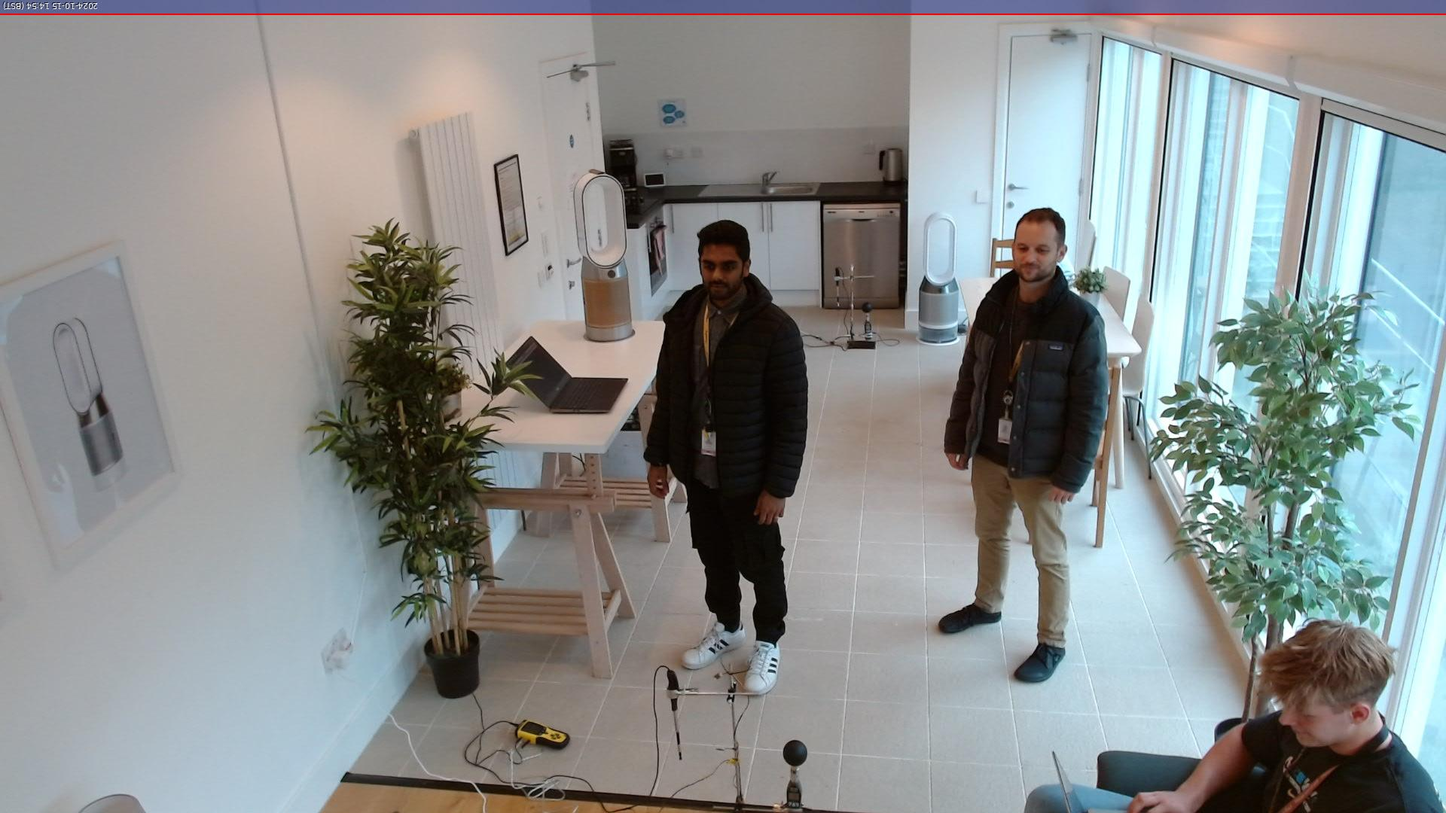coat: (941, 264, 1107, 496), (638, 277, 810, 499)
long sleeve shirt: (688, 283, 752, 490)
short sleeve shirt: (1241, 707, 1446, 813)
trousers: (969, 447, 1071, 650), (682, 476, 790, 648), (1018, 780, 1153, 813)
